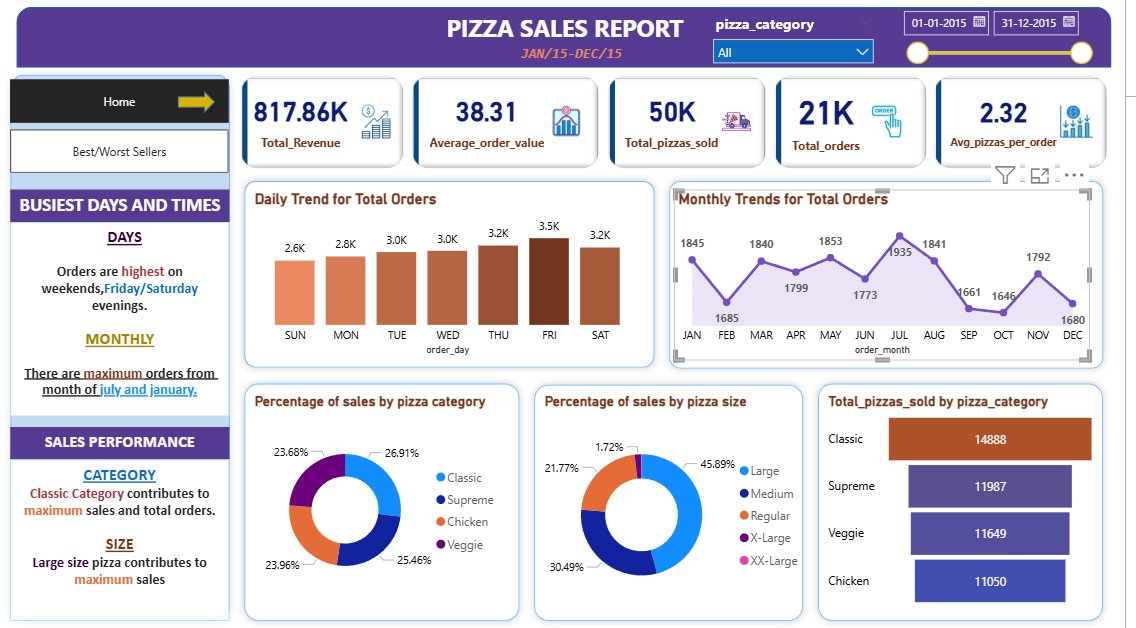

The dashboard page shown, as its layout file describes it:
{"tool":"powerbi","page":{"name":"Home","canvas":[1280,720],"ordinal":0},"visuals":[{"type":"shape","box":[9.9,84.9,266,635.2],"z":0},{"type":"cardVisual","fields":{"Data":["pizza_sales.Total_Revenue"]},"box":[273.9,90.5,194.4,114.9],"z":1000},{"type":"cardVisual","fields":{"Data":["pizza_sales.Average_order_value"]},"box":[468.3,90.5,221.3,114.9],"z":2000},{"type":"cardVisual","fields":{"Data":["pizza_sales.Total_pizzas_sold"]},"box":[689.7,90.5,188.3,114.9],"z":3000},{"type":"cardVisual","fields":{"Data":["pizza_sales.Total_orders"]},"box":[878,90.5,182.2,114.9],"z":4000},{"type":"cardVisual","fields":{"Data":["pizza_sales.Avg_pizzas_per_order"]},"box":[1060.2,90.5,205.4,114.9],"z":5000},{"type":"shape","box":[26.1,16.5,1239.1,68.6],"z":6000},{"type":"textbox","box":[488.5,16.5,315.6,56.3],"z":7000},{"type":"textbox","box":[591.4,54.9,163.3,35.7],"z":8000},{"type":"shape","box":[273.9,205.4,481.8,228.7],"z":9000},{"type":"columnChart","title":"Daily Trend for Total Orders","fields":{"Category":["pizza_sales.order_day"],"Y":["pizza_sales.Total_orders"]},"box":[289.8,223.8,447.6,193.2],"z":10000},{"type":"shape","box":[755.7,205.4,508.7,229.9],"z":11000},{"type":"areaChart","title":"Monthly Trends for Total Orders","fields":{"Y":["pizza_sales.Total_orders"],"Category":["pizza_sales.order_month"]},"box":[769.2,223.8,472,193.2],"z":12000},{"type":"shape","box":[273.9,434.1,328.9,286.1],"z":13000},{"type":"shape","box":[924.5,434.1,339.9,286.1],"z":14000},{"type":"shape","box":[602.9,435.3,321.6,284.9],"z":15000},{"type":"donutChart","title":"Percentage of sales by pizza category","fields":{"Category":["pizza_sales.pizza_category"],"Y":["pizza_sales.Total_Revenue"]},"box":[289.8,453.7,289.8,247],"z":16000},{"type":"donutChart","title":"Percentage of sales by pizza size","fields":{"Category":["pizza_sales.pizza_size"],"Y":["pizza_sales.Total_Revenue"]},"box":[618.8,453.7,305.7,258],"z":17000},{"type":"funnel","fields":{"Category":["pizza_sales.pizza_category"],"Y":["pizza_sales.Total_pizzas_sold"]},"box":[939.1,453.7,313,247],"z":18000},{"type":"textbox","box":[18.3,223.8,248.2,36.7],"z":19000},{"type":"textbox","box":[18.3,260.5,248.2,220.1],"z":20000},{"type":"textbox","box":[18.3,492.8,248.2,36.7],"z":21000},{"type":"textbox","box":[18.3,529.5,248.2,182.2],"z":22000},{"type":"slicer","fields":{"Values":["pizza_sales.pizza_category"]},"box":[803.4,19.6,201.8,64.8],"z":23000},{"type":"slicer","fields":{"Values":["pizza_sales.order_date"]},"box":[1017.2,11.3,234.8,137.2],"z":24000},{"type":"pageNavigator","box":[18.4,99,247.6,49.5],"z":24001},{"type":"pageNavigator","box":[18.4,155.6,247.6,49.5],"z":24002},{"type":"shape","box":[208,111.8,42.4,25.5],"z":24003}]}

Visuals, with their boxes in screenshot pixels (x1, y1, x2, y2), scaled from the page's 1280x720 canvas onto the 1136x628 screenshot:
shape: left=9, top=74, right=245, bottom=627
cardVisual - pizza_sales.Total_Revenue: left=243, top=79, right=416, bottom=179
cardVisual - pizza_sales.Average_order_value: left=416, top=79, right=612, bottom=179
cardVisual - pizza_sales.Total_pizzas_sold: left=612, top=79, right=779, bottom=179
cardVisual - pizza_sales.Total_orders: left=779, top=79, right=941, bottom=179
cardVisual - pizza_sales.Avg_pizzas_per_order: left=941, top=79, right=1123, bottom=179
shape: left=23, top=14, right=1123, bottom=74
textbox: left=434, top=14, right=714, bottom=63
textbox: left=525, top=48, right=670, bottom=79
shape: left=243, top=179, right=671, bottom=379
"Daily Trend for Total Orders" columnChart: left=257, top=195, right=654, bottom=364
shape: left=671, top=179, right=1122, bottom=380
"Monthly Trends for Total Orders" areaChart: left=683, top=195, right=1102, bottom=364
shape: left=243, top=379, right=535, bottom=627
shape: left=820, top=379, right=1122, bottom=627
shape: left=535, top=380, right=820, bottom=627
"Percentage of sales by pizza category" donutChart: left=257, top=396, right=514, bottom=611
"Percentage of sales by pizza size" donutChart: left=549, top=396, right=820, bottom=621
funnel - pizza_sales.pizza_category x pizza_sales.Total_pizzas_sold: left=833, top=396, right=1111, bottom=611
textbox: left=16, top=195, right=237, bottom=227
textbox: left=16, top=227, right=237, bottom=419
textbox: left=16, top=430, right=237, bottom=462
textbox: left=16, top=462, right=237, bottom=621
slicer - pizza_sales.pizza_category: left=713, top=17, right=892, bottom=74
slicer - pizza_sales.order_date: left=903, top=10, right=1111, bottom=130
pageNavigator: left=16, top=86, right=236, bottom=130
pageNavigator: left=16, top=136, right=236, bottom=179
shape: left=185, top=98, right=222, bottom=120
